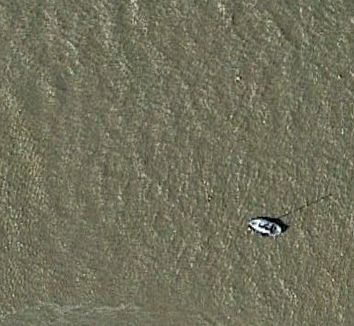boat: (246, 216, 284, 239)
